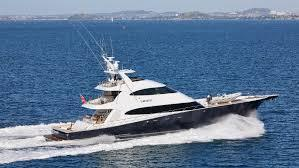fishing boat: (44, 20, 282, 148)
